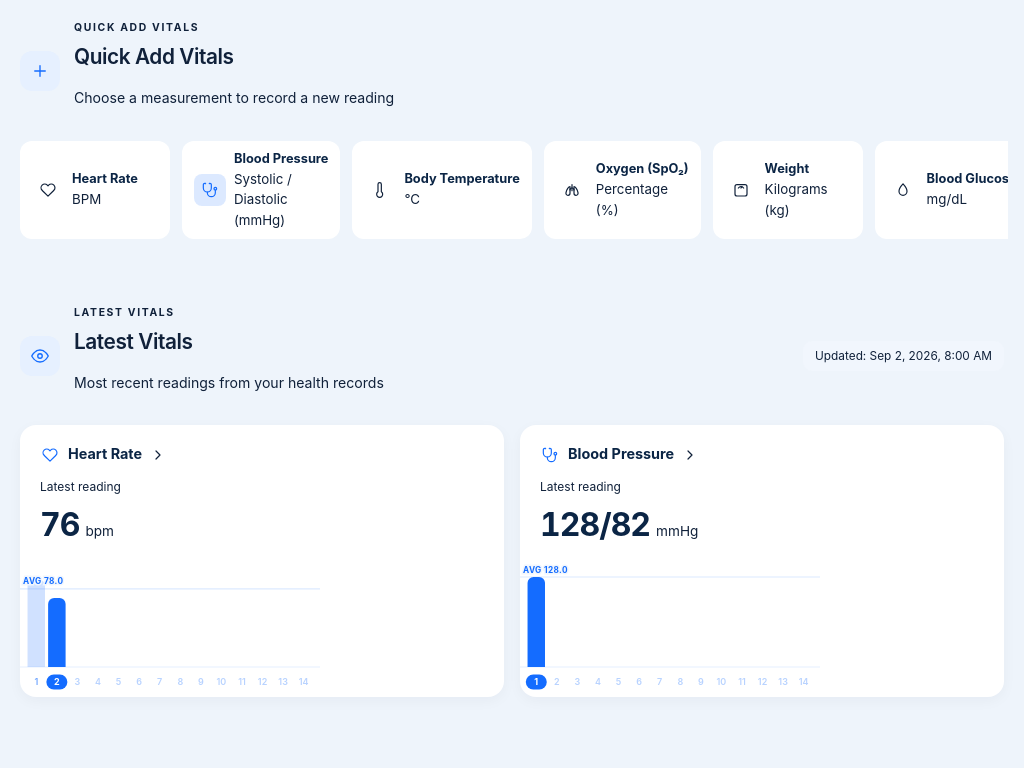
Test: VitalsPanel › opens the recorded readings for one vital
Click the button with aria-label "Heart Rate: 76 bpm": (262, 561) left=20, top=425, right=504, bottom=697
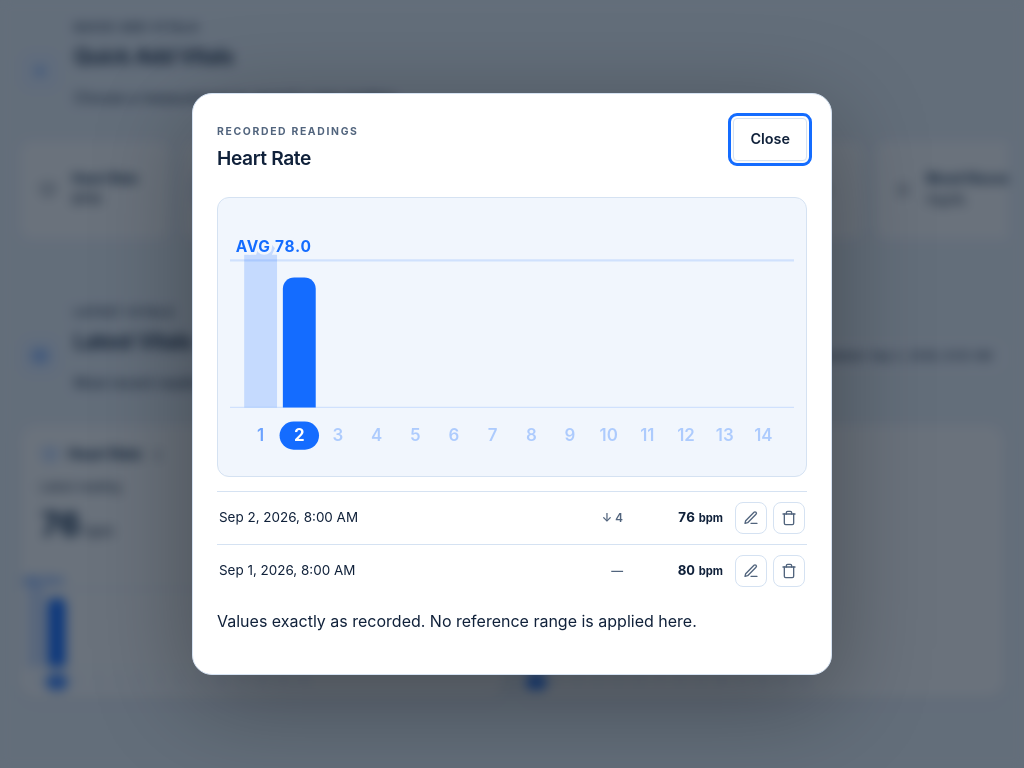
Now the number of list items is 2, box left=217, top=491, right=807, bottom=544; left=217, top=544, right=807, bottom=597
Click the button "Close": (770, 139) left=734, top=118, right=807, bottom=161
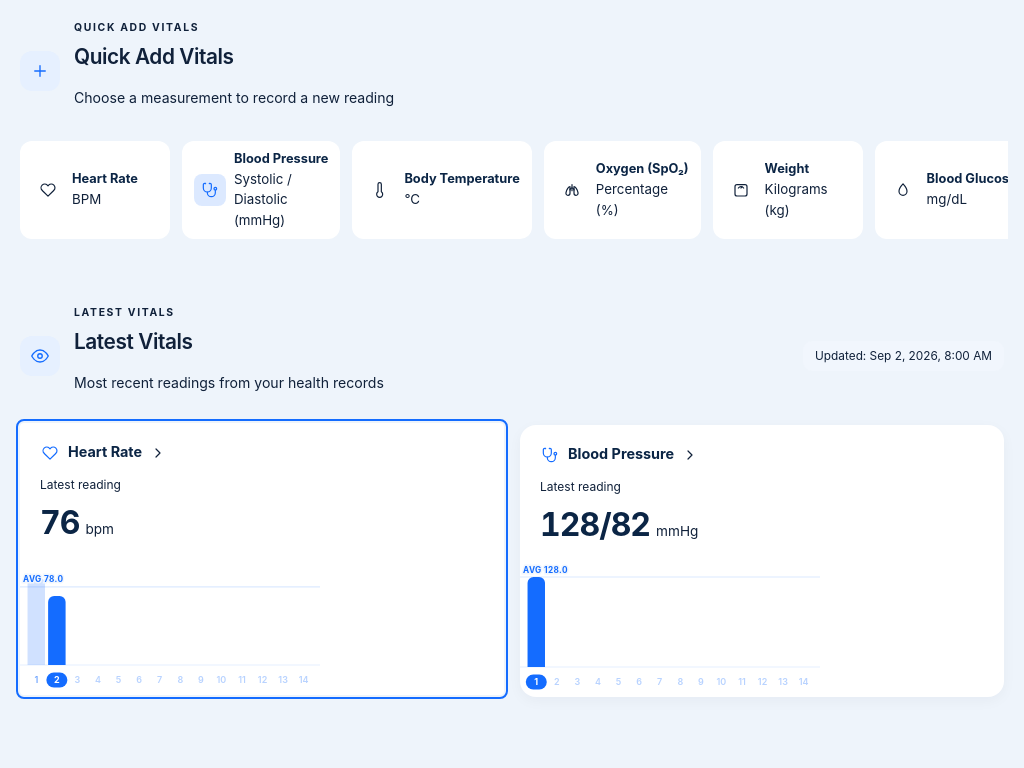
Now the dialog is gone
